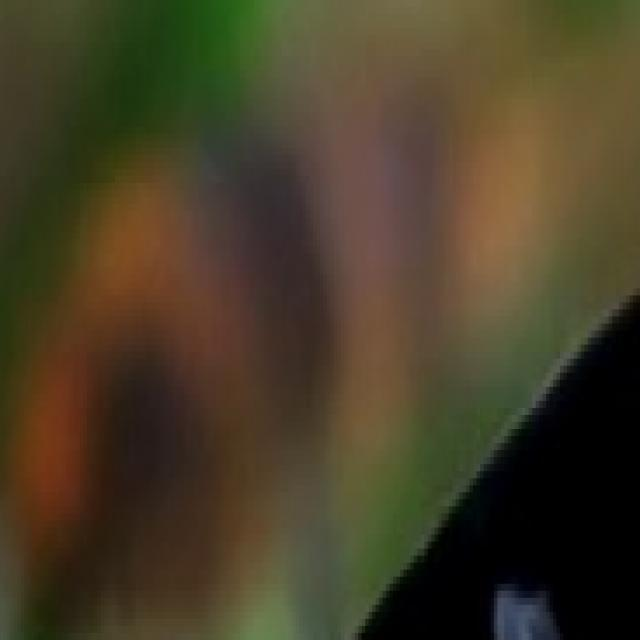fish: (3, 7, 640, 640)
